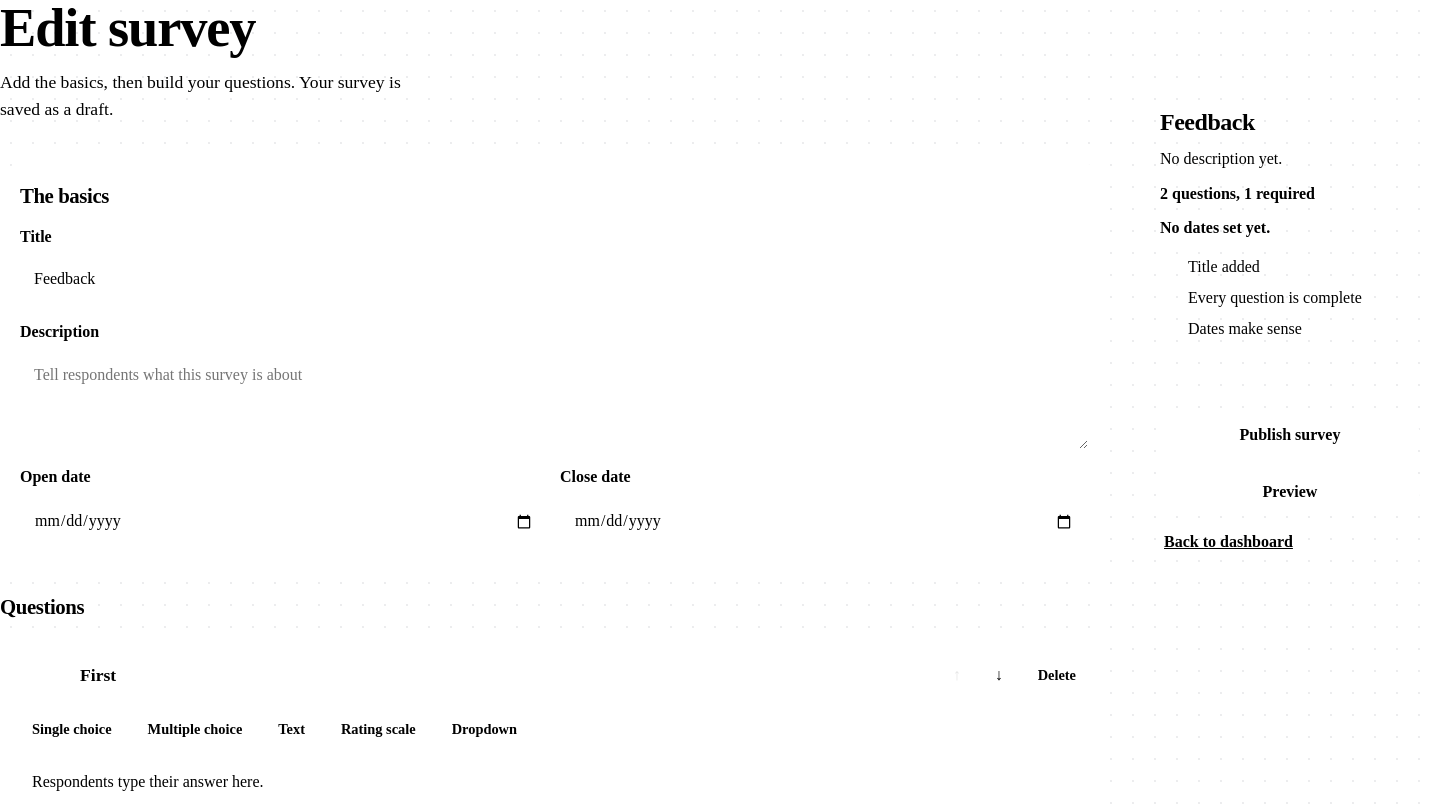
Test: CreateSurvey (builder) › keeps the question and shows the error when deletion fails
The image size is (1440, 810).
Click the button "Delete" at (1057,676), box [1024, 659, 1090, 693]
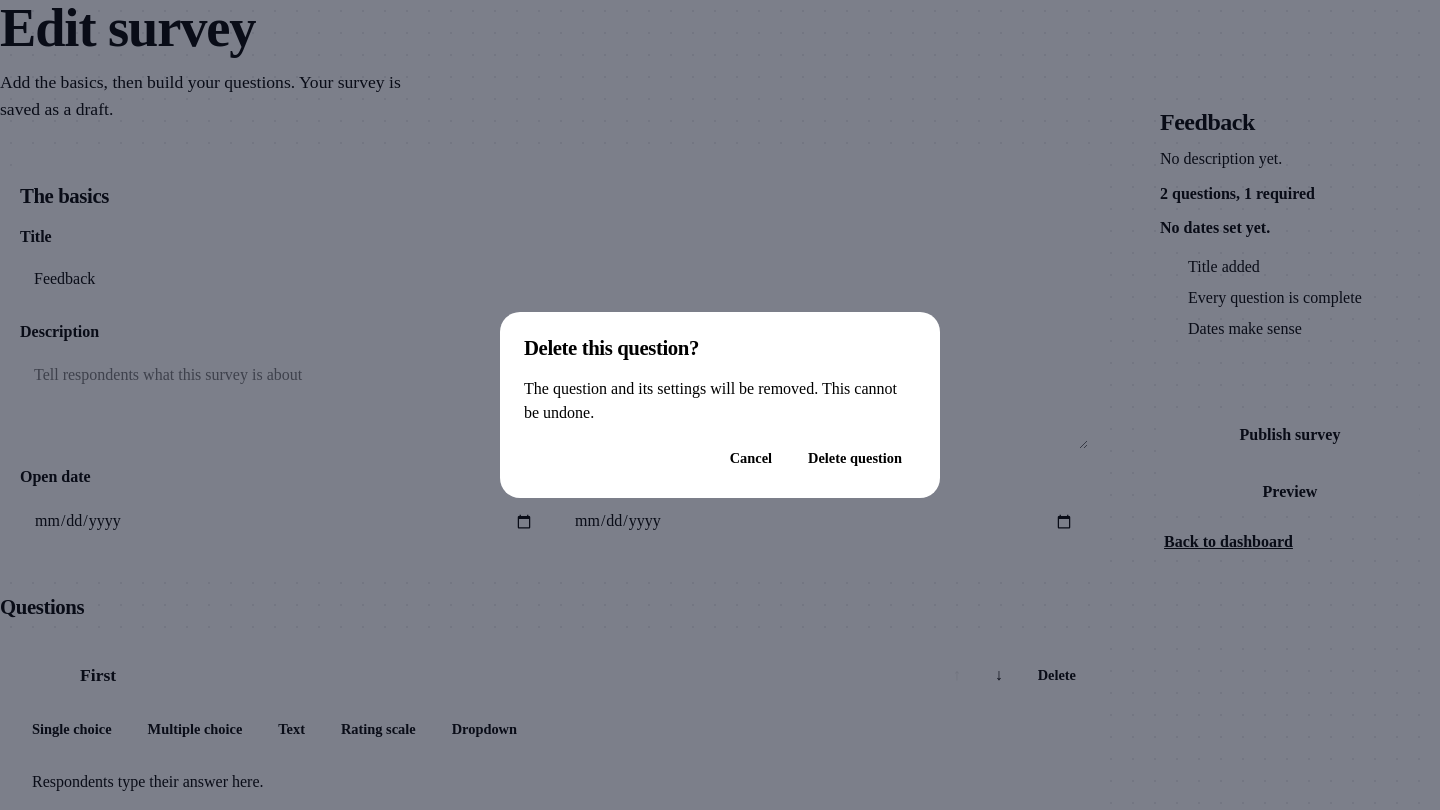
Click the button "Delete question" at (855,458), box [794, 442, 916, 474]
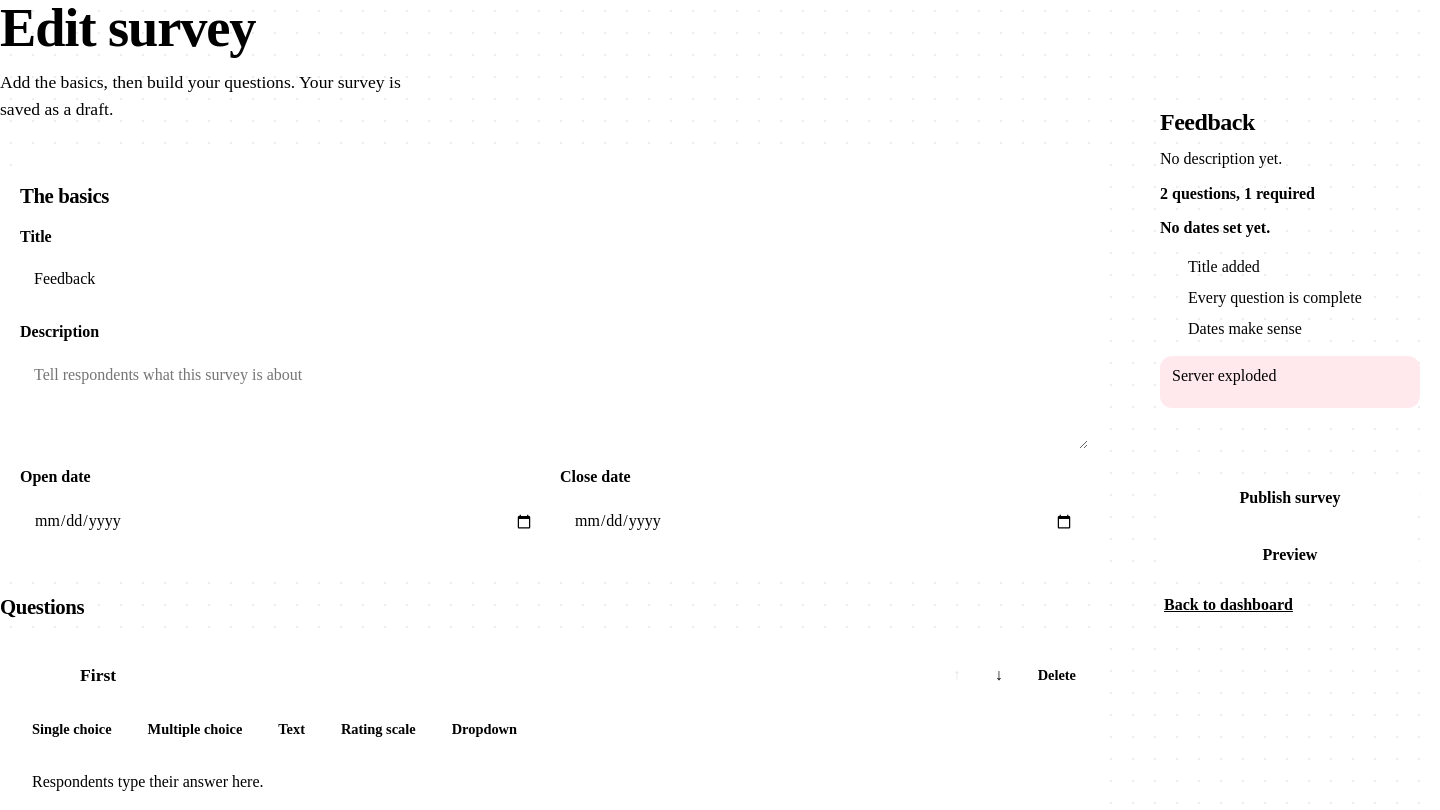
Expected: the text "Server exploded" is shown, [1172, 367, 1276, 384]
